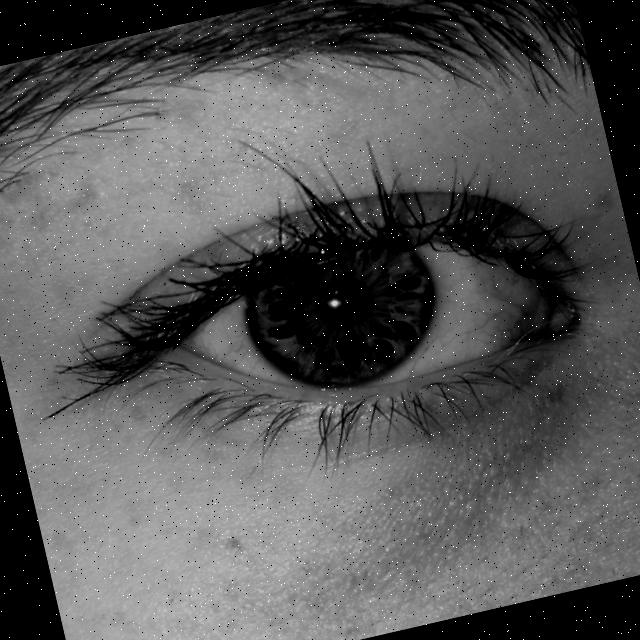Normal: (61, 178, 606, 460)
